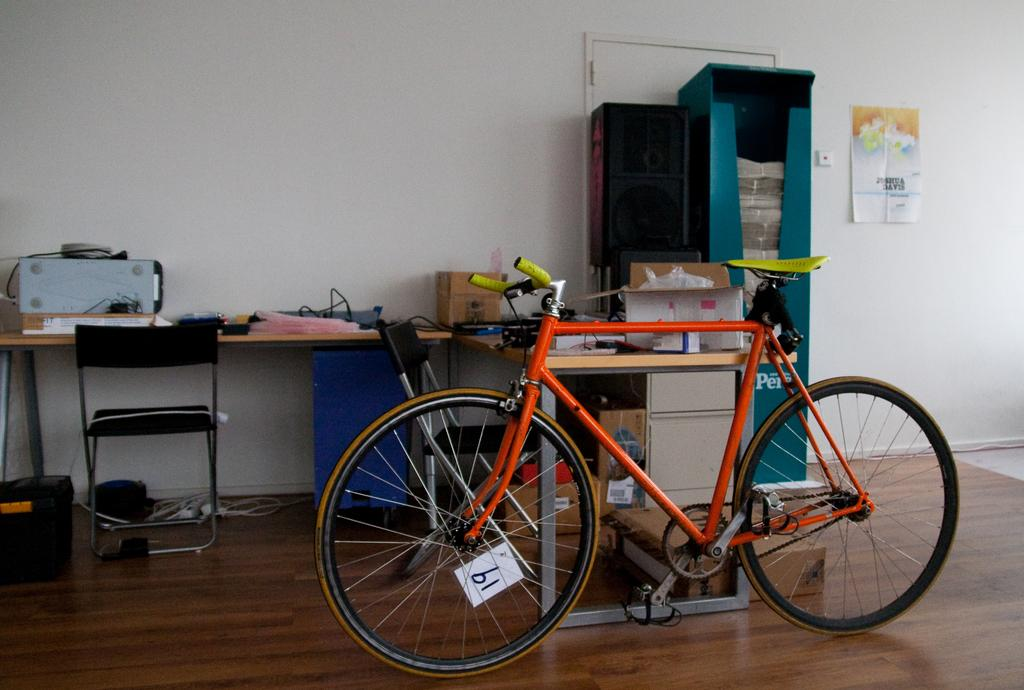Chair: (73, 322, 220, 559)
